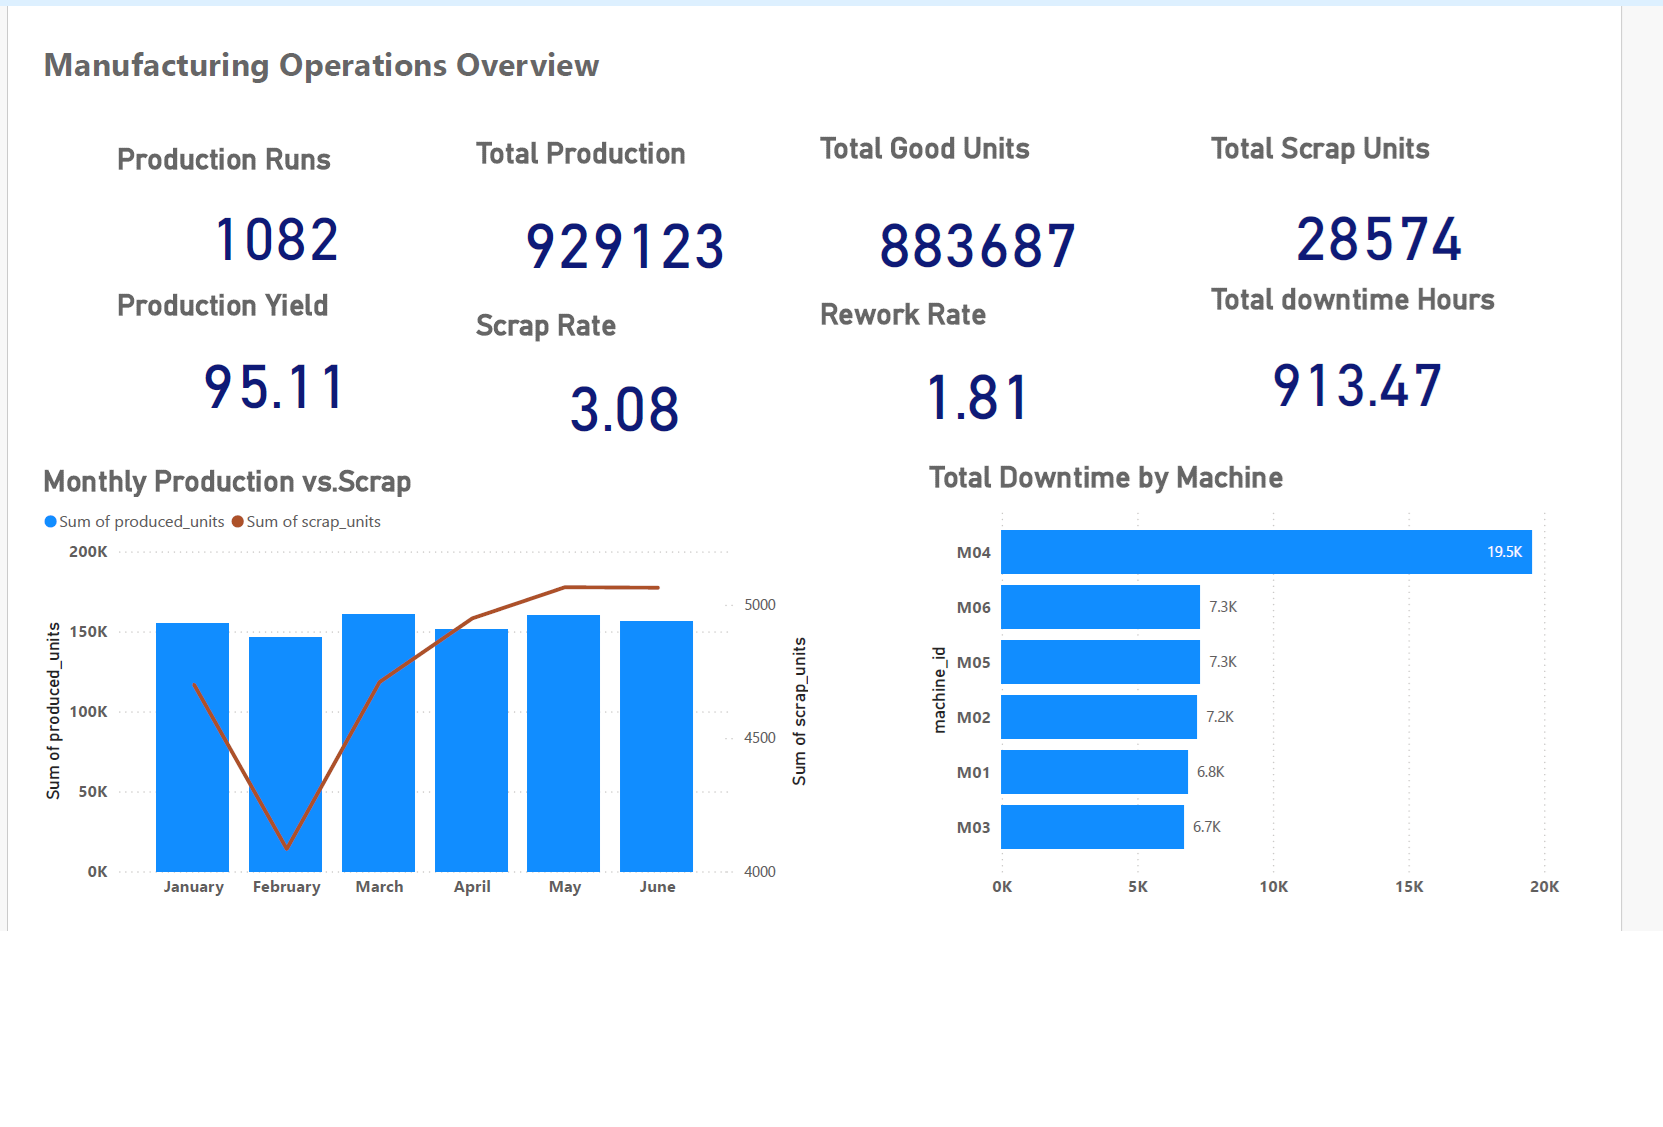

The page's visual inventory and layout, read from the dashboard file:
{"tool":"powerbi","page":{"name":"Page 1","canvas":[1280,720],"ordinal":0},"visuals":[{"type":"card","title":"Production Runs","fields":{"Values":["CountNonNull(vw_valid_production.production_run_id)"]},"box":[61.4,88.2,269.3,119.7],"z":0},{"type":"card","title":"Total Production","fields":{"Values":["Sum(vw_valid_production.produced_units)"]},"box":[356,83.5,255.2,141.8],"z":1},{"type":"card","title":"Total Good Units","fields":{"Values":["Sum(vw_valid_production.good_units)"]},"box":[639.5,78.8,269.3,149.6],"z":2},{"type":"card","title":"Total Scrap Units","fields":{"Values":["Sum(vw_valid_production.scrap_units)"]},"box":[960.8,78.8,286.7,137],"z":3},{"type":"card","title":"Production Yield","fields":{"Values":["dim_lines.Production Yield %"]},"box":[61.4,207.9,269.3,122.9],"z":4},{"type":"card","title":"Scrap Rate","fields":{"Values":["dim_lines.Scrap Rate %"]},"box":[356,225.2,255.2,124.4],"z":5},{"type":"card","title":"Rework Rate","fields":{"Values":["dim_lines.Rework Rate %"]},"box":[639.5,215.8,269.3,124.4],"z":6},{"type":"card","title":"Total downtime Hours","fields":{"Values":["dim_lines.Total Downtime (Hours)"]},"box":[960.8,203.2,250.4,130.7],"z":7},{"type":"lineClusteredColumnComboChart","title":"Monthly Production vs.Scrap","fields":{"Category":["vw_valid_production.production_date.Variation.Date Hierarchy.Month"],"Y":["Sum(vw_valid_production.produced_units)"],"Y2":["Sum(vw_valid_production.scrap_units)"]},"box":[0,352.8,639.5,367],"z":8},{"type":"clusteredBarChart","title":"Total Downtime by Machine","fields":{"Category":["fact_downtime_events_clean.machine_id"],"Y":["Sum(fact_downtime_events_clean.downtime_minutes)"]},"box":[729.3,349.7,545,370.1],"z":9},{"type":"textbox","box":[0,0,507.8,78.2],"z":10}]}

Visuals, with their boxes on the page's 1280x720 design canvas (x1, y1, x2, y2). These are canvas units, not pixel positions in the 1663x1127 screenshot, which may show the page scaled, cropped or inside an application window:
"Production Runs" card: 61 88 331 208
"Total Production" card: 356 84 611 225
"Total Good Units" card: 640 79 909 228
"Total Scrap Units" card: 961 79 1248 216
"Production Yield" card: 61 208 331 331
"Scrap Rate" card: 356 225 611 350
"Rework Rate" card: 640 216 909 340
"Total downtime Hours" card: 961 203 1211 334
"Monthly Production vs.Scrap" lineClusteredColumnComboChart: 0 353 640 720
"Total Downtime by Machine" clusteredBarChart: 729 350 1274 720
textbox: 0 0 508 78
